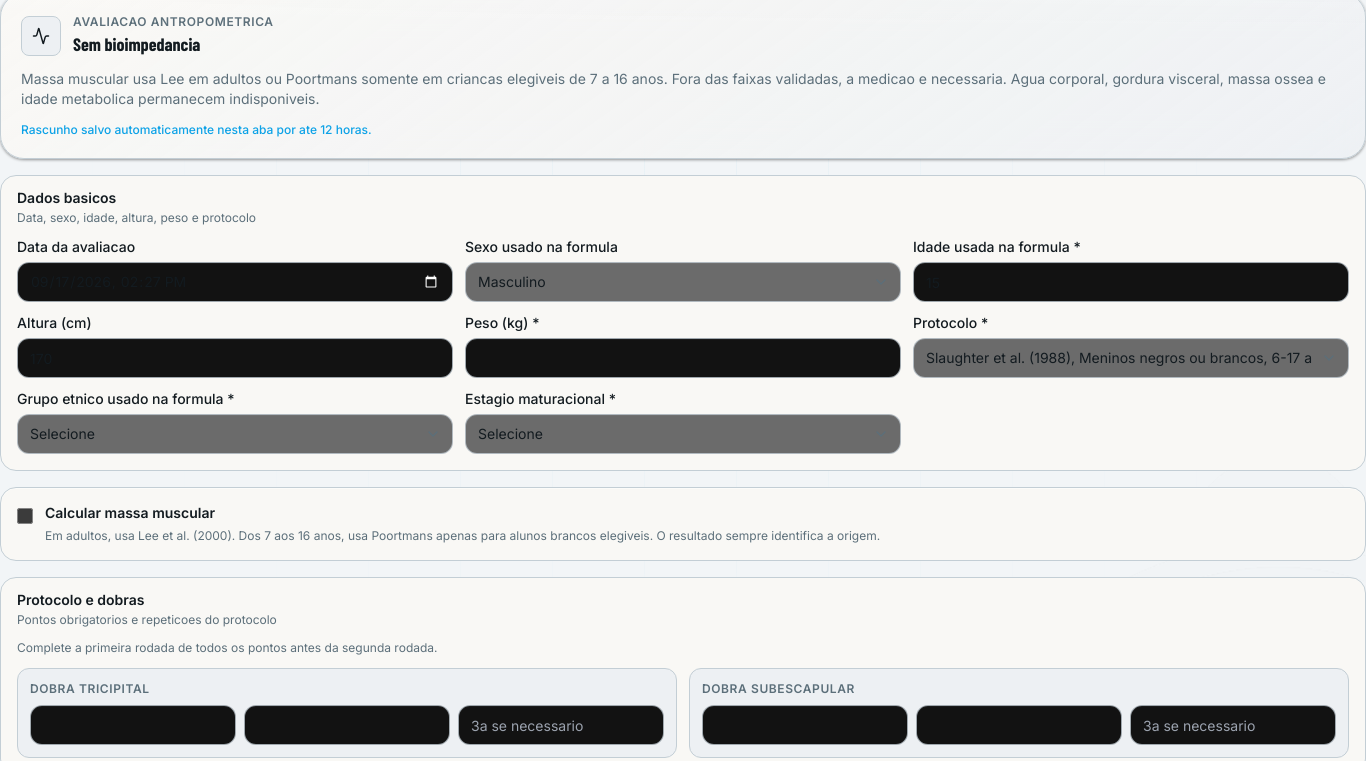
AssessmentRegistrationComposer › adds Poortmans measurements for an eligible white child without duplicating fields
The width and height of the screenshot is (1366, 761).
Expected: the dropdown named "Grupo etnico usado na formula" is shown, 17,414 -> 453,454
Click the checkbox labelled "Calcular massa muscular".
click(25, 516)  # box 17,508 -> 33,524
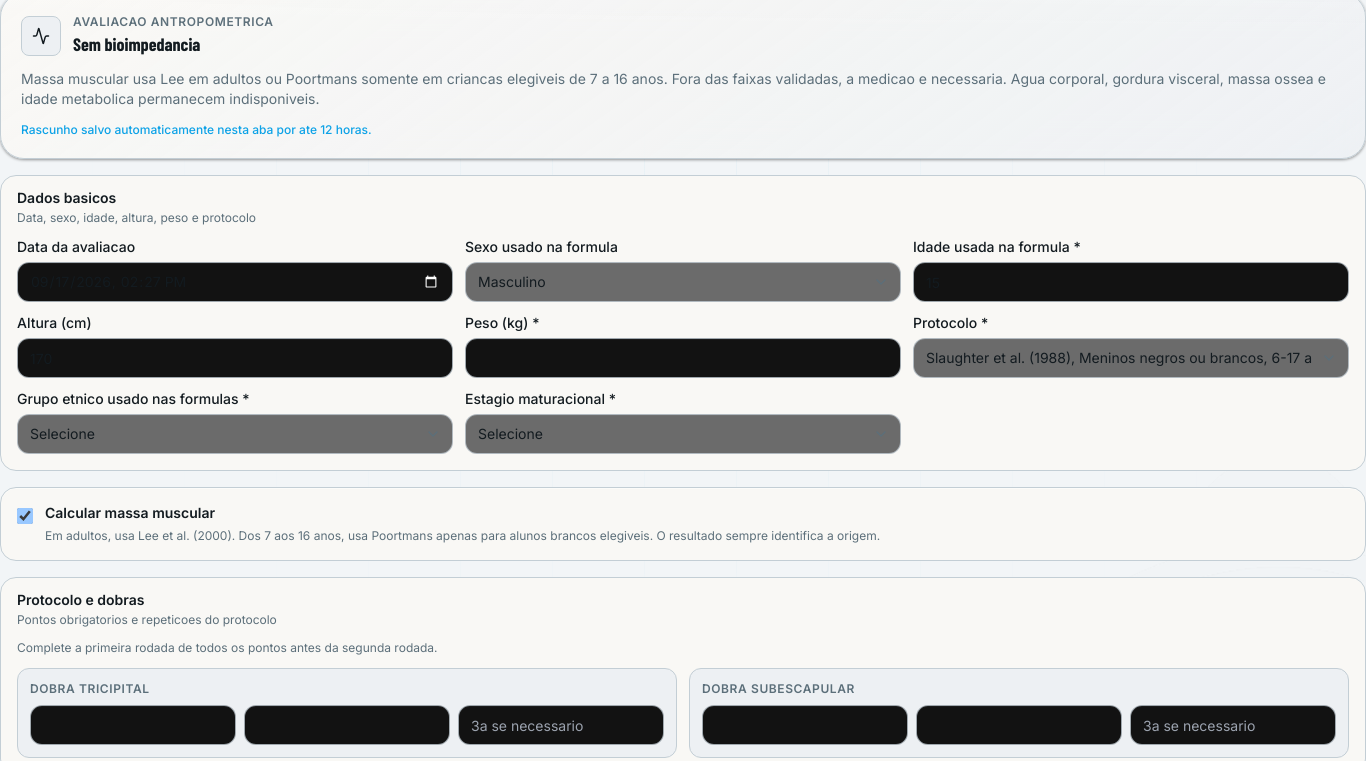
Select "Branco" in the dropdown named "Grupo etnico usado na formula" at (235, 434), box 17,414 -> 453,454
(page scrolled)
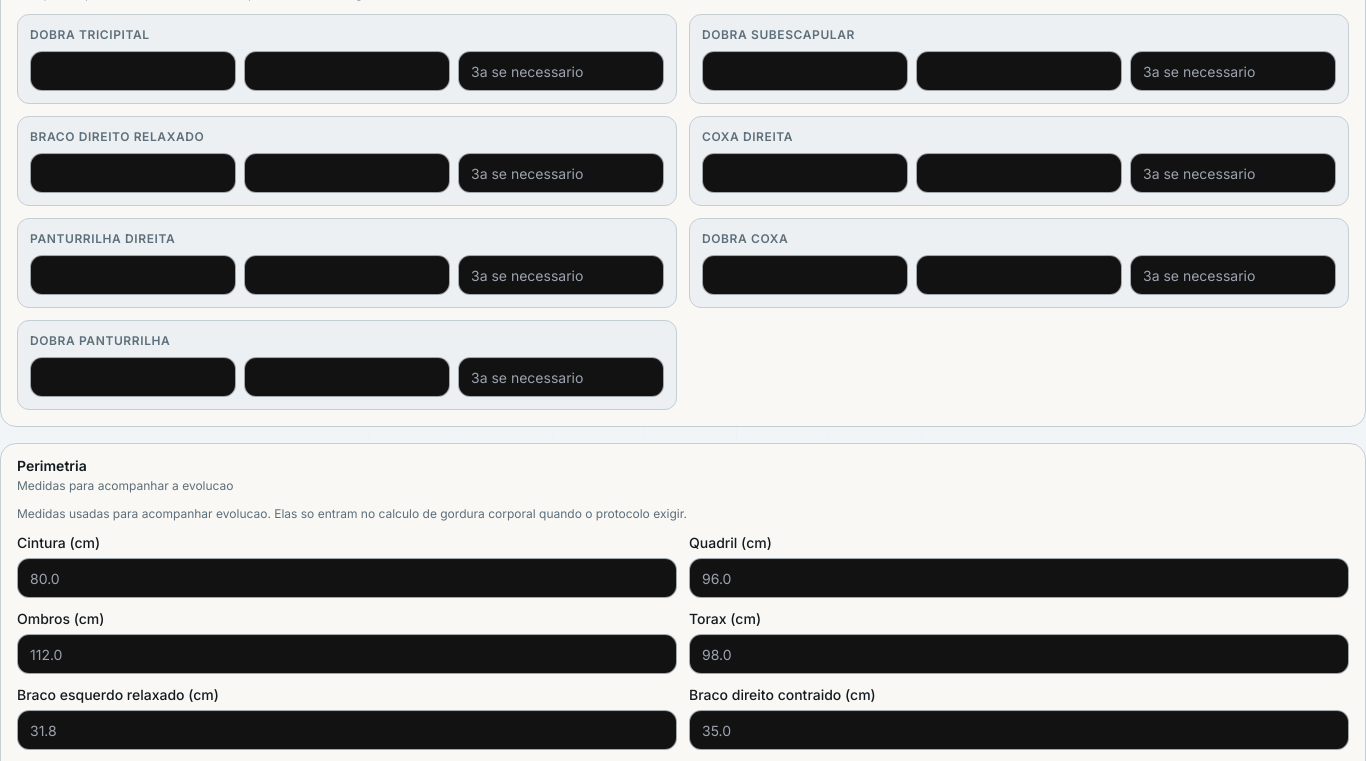
Expected: the field named "Braco direito relaxado - tentativa 1" is shown, 30,153 -> 236,193
Expected: the field named "Coxa direita - tentativa 1" is shown, 702,153 -> 908,193
Expected: the field named "Panturrilha direita - tentativa 1" is shown, 30,255 -> 236,295
